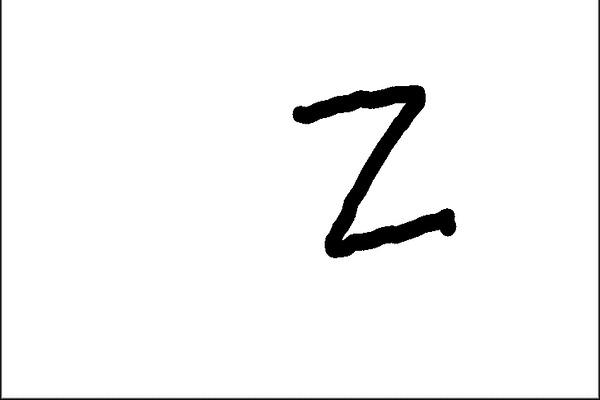Z: (282, 77, 472, 264)
